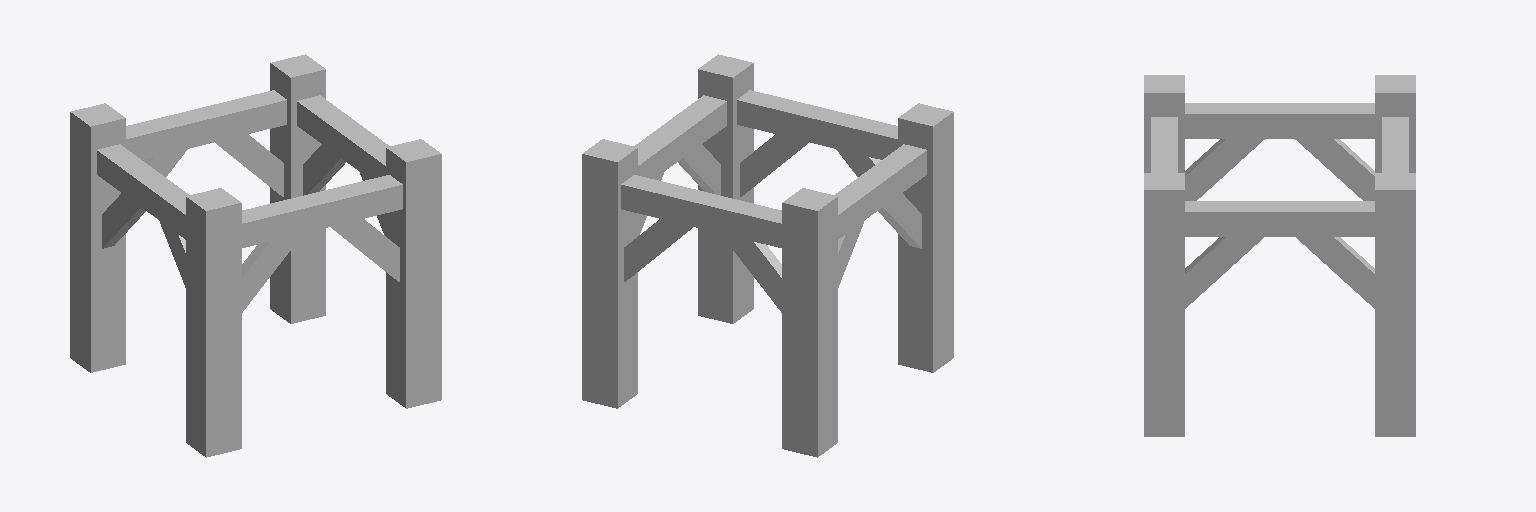
Rendered from wood-structure.obj.
3 views of the same model, side by side, from view 1: azimuth 30°, elevation 25°; view 2: azimuth 150°, elevation 25°; view 3: azimuth 270°, elevation 25° (orthographic).
Parts seen in each view (by area): view 1: wood-structure; view 2: wood-structure; view 3: wood-structure.
Part boxes in pixels (left/top/right/bottom): wood-structure: left=70, top=54, right=441, bottom=457; wood-structure: left=582, top=54, right=953, bottom=457; wood-structure: left=1144, top=75, right=1415, bottom=436.
Bounding box in the file's own units: 1 × 1 × 1.